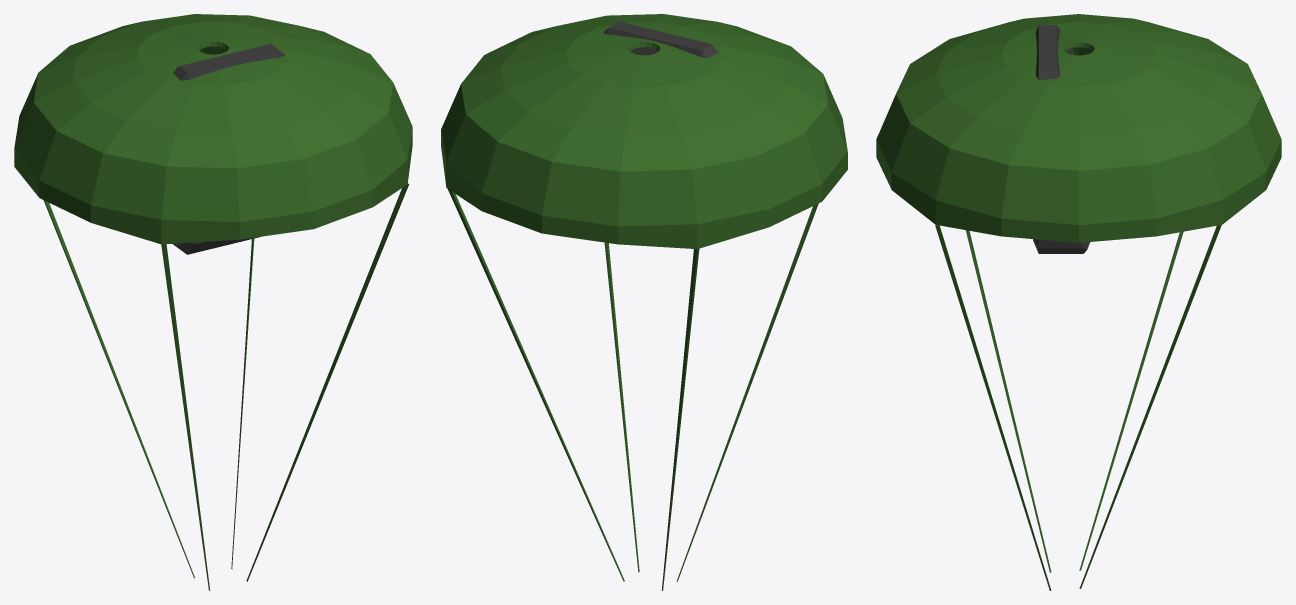
Rendered from Stickman_Kit_Parachute.fbx.
3 views of the same model, side by side, from view 1: azimuth 30°, elevation 25°; view 2: azimuth 150°, elevation 25°; view 3: azimuth 270°, elevation 25° (orthographic). The views are drawn at different scales.
Parts seen in each view (by area): view 1: ParachuteTop, ParachuteBag; view 2: ParachuteTop, ParachuteBag; view 3: ParachuteTop, ParachuteBag.
Part boxes in pixels (bbox=[...]): ParachuteTop: bbox=[14, 14, 412, 590]; ParachuteBag: bbox=[172, 43, 285, 254]; ParachuteTop: bbox=[441, 14, 847, 590]; ParachuteBag: bbox=[603, 21, 718, 57]; ParachuteTop: bbox=[876, 14, 1281, 590]; ParachuteBag: bbox=[1033, 25, 1089, 253].
Size of the model in its own units: 400 by 581 by 400.
